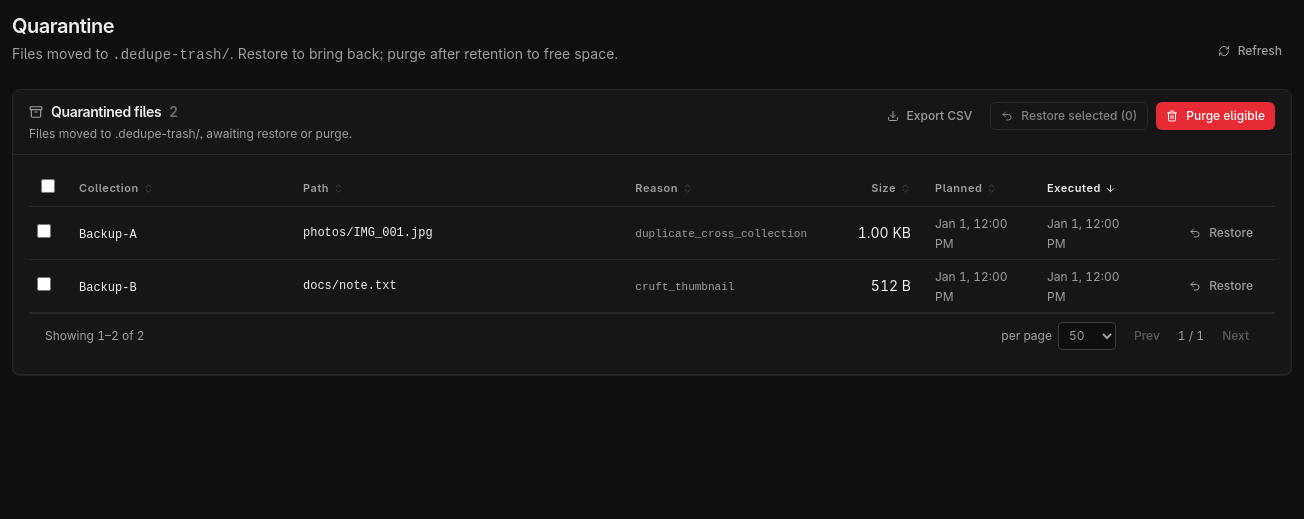
QuarantinePage › purge eligible shows a dry-run preview before deleting
Click the button "Purge eligible" at (1216, 116), box [1156,102,1275,130]
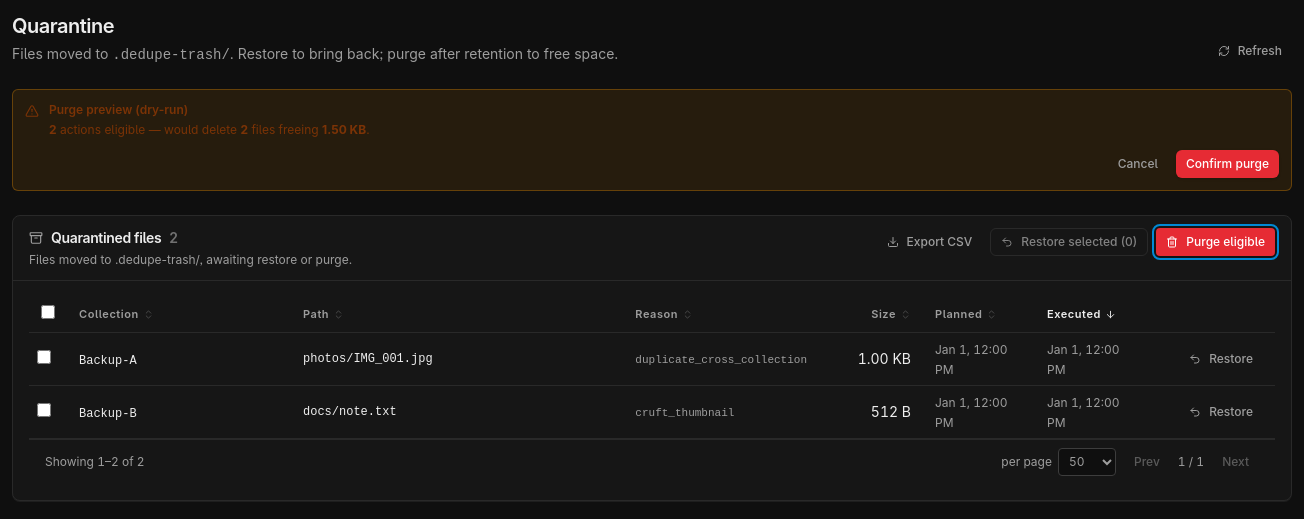
Result: the text "Purge preview (dry-run)" is shown at [49,102,188,117]
Confirm in the preview banner triggers the real purge.
Click the button "Confirm purge" at (1227, 164), box [1176,150,1279,178]
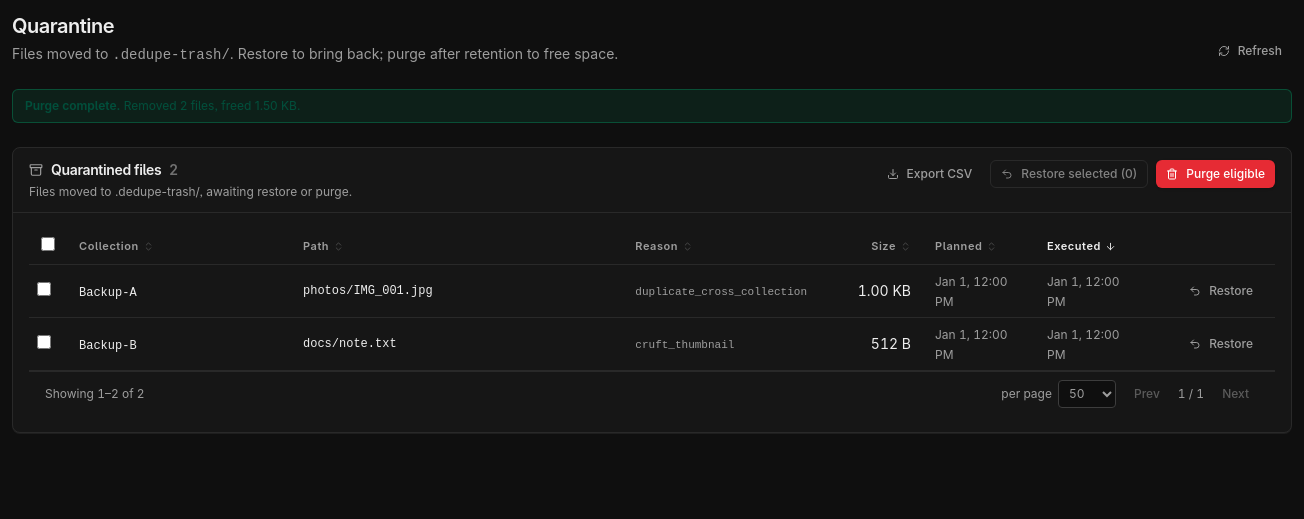
Result: the text "Purge complete." is shown at [25,98,120,113]
